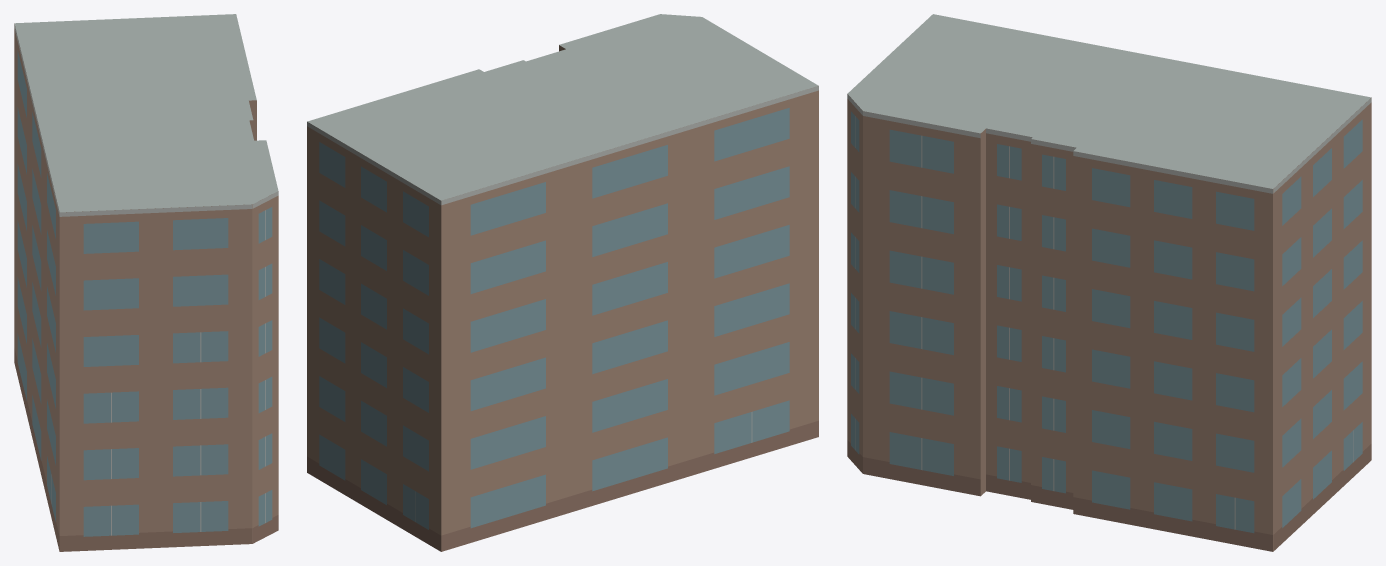
File: survey-upis-33020785.glb
The picture shows the model from 3 angles, left to right: view 1: azimuth 30°, elevation 25°; view 2: azimuth 150°, elevation 25°; view 3: azimuth 270°, elevation 25°; orthographic projection. The views are drawn at different scales.
Visible parts, largest first — view 1: survey-upis-33020785.tmp; view 2: survey-upis-33020785.tmp; view 3: survey-upis-33020785.tmp.
Part boxes in pixels (<box>): survey-upis-33020785.tmp: <box>14,14,278,551</box>; survey-upis-33020785.tmp: <box>307,14,818,551</box>; survey-upis-33020785.tmp: <box>847,14,1371,551</box>.
Size of the model in its own units: 18.94 by 18.3 by 23.97.
